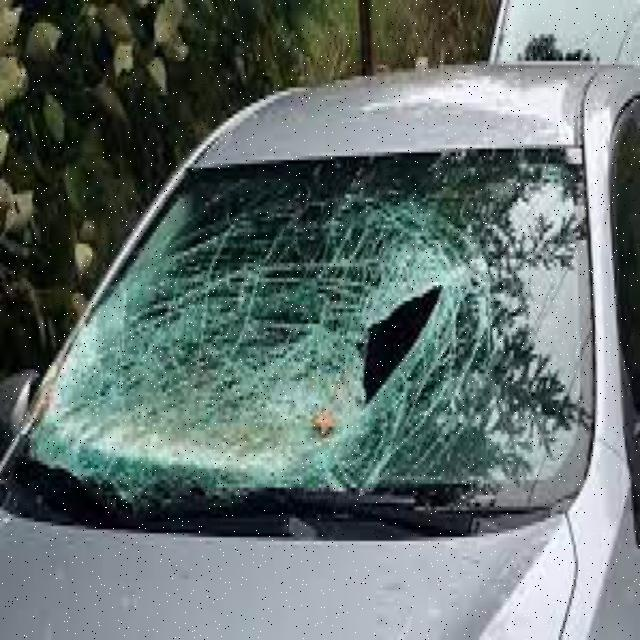Front-Windscreen-Damage: (0, 133, 627, 602)
